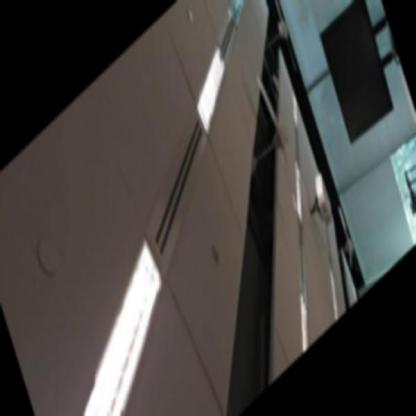light_on: (17, 225, 215, 415), (176, 24, 247, 147), (280, 155, 317, 229), (284, 286, 322, 358), (319, 260, 351, 323), (283, 80, 309, 132)
